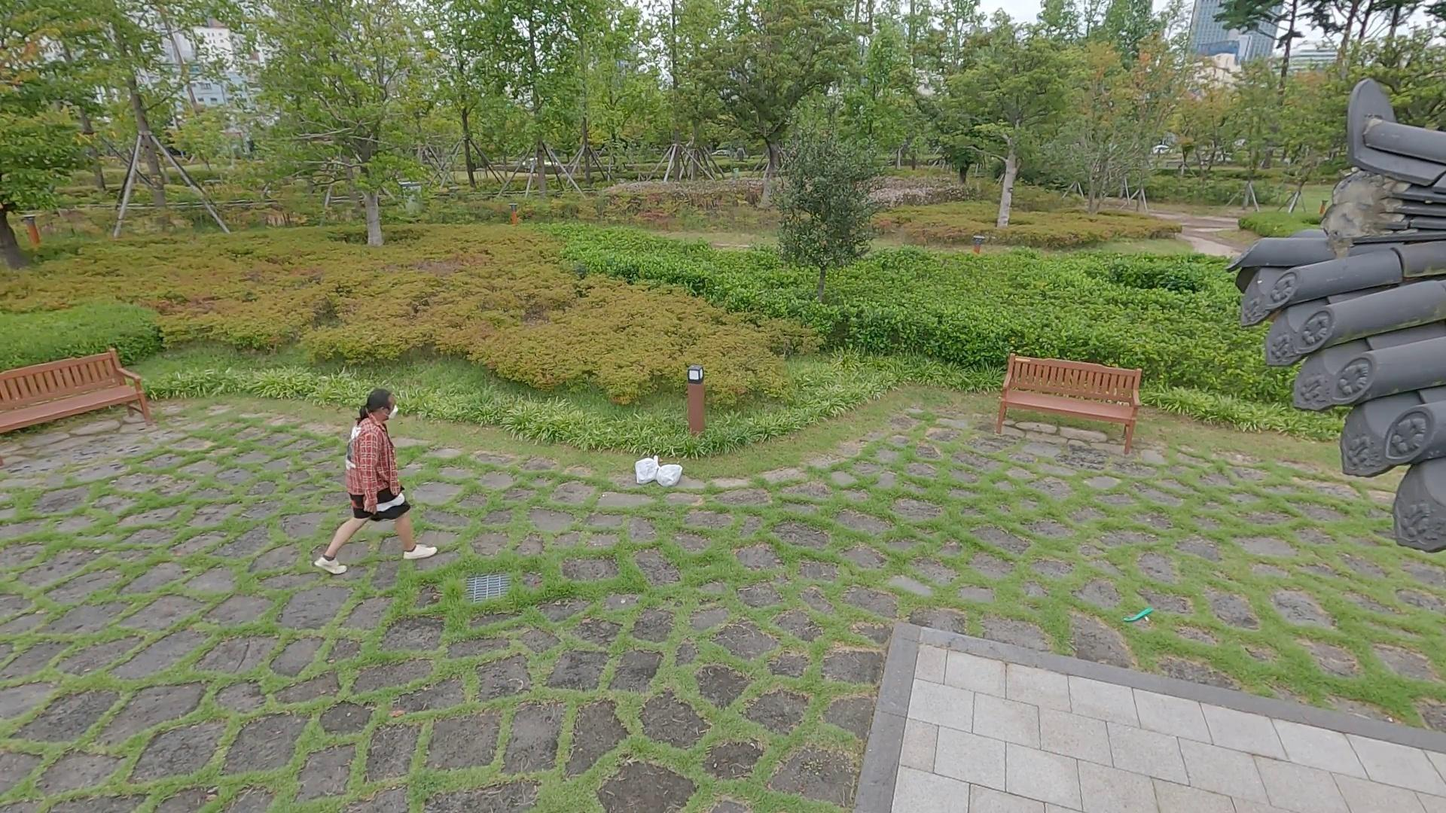person: (309, 386, 440, 582)
trash: (633, 455, 663, 486), (655, 464, 684, 489)
